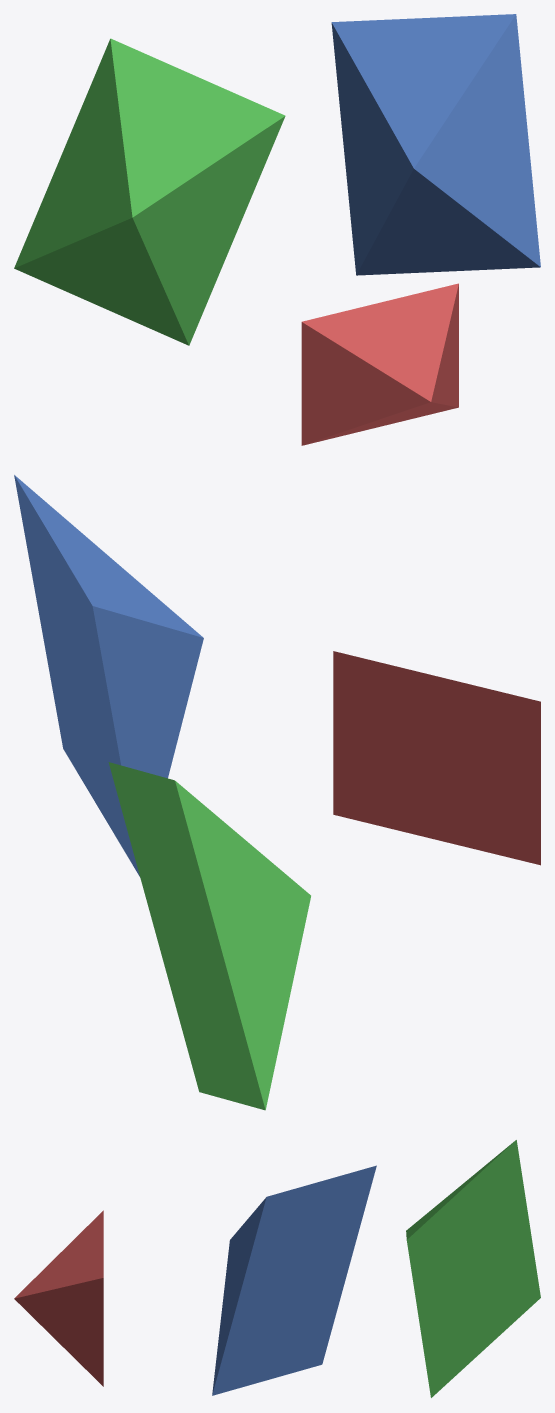
File: scene_filtered.glb
3 views of the same model, one above another, from view 1: azimuth 30°, elevation 25°; view 2: azimuth 150°, elevation 25°; view 3: azimuth 270°, elevation 25° (orthographic). The views are drawn at different scales.
Visible parts, largest first — view 1: camera_hand_left, camera_hand_right, camera_head; view 2: camera_hand_left, camera_head, camera_hand_right; view 3: camera_hand_right, camera_hand_left, camera_head.
Boxes of the visible parts, x1,y1,x2,y2 form: camera_hand_left: [14, 38, 285, 345]; camera_hand_right: [331, 14, 540, 275]; camera_head: [301, 283, 458, 445]; camera_hand_left: [108, 762, 310, 1110]; camera_head: [333, 651, 540, 865]; camera_hand_right: [14, 475, 203, 877]; camera_hand_right: [212, 1165, 376, 1395]; camera_hand_left: [406, 1140, 540, 1397]; camera_head: [14, 1210, 103, 1386].
Bounding box in the file's own units: 0.5891 × 0.5573 × 0.8807.
